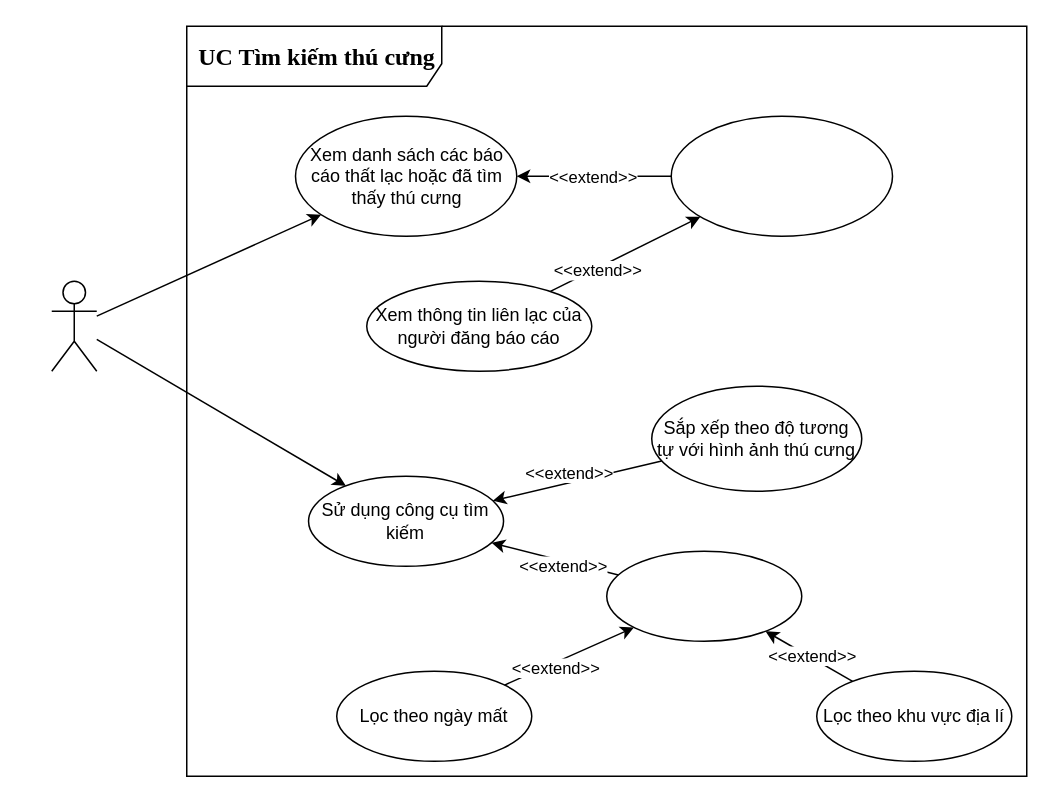
This 1053x803 diagram has some shape labels left out. The centre of each missing label's shape, as x and y in pixels:
"Người dùng" goes at point 73,325.
"Xem chi tiết báo cáo thất lạc hoặc đã tìm thấy thú cưng" goes at point 781,175.
"Áp dụng bộ lọc" goes at point 703,595.
